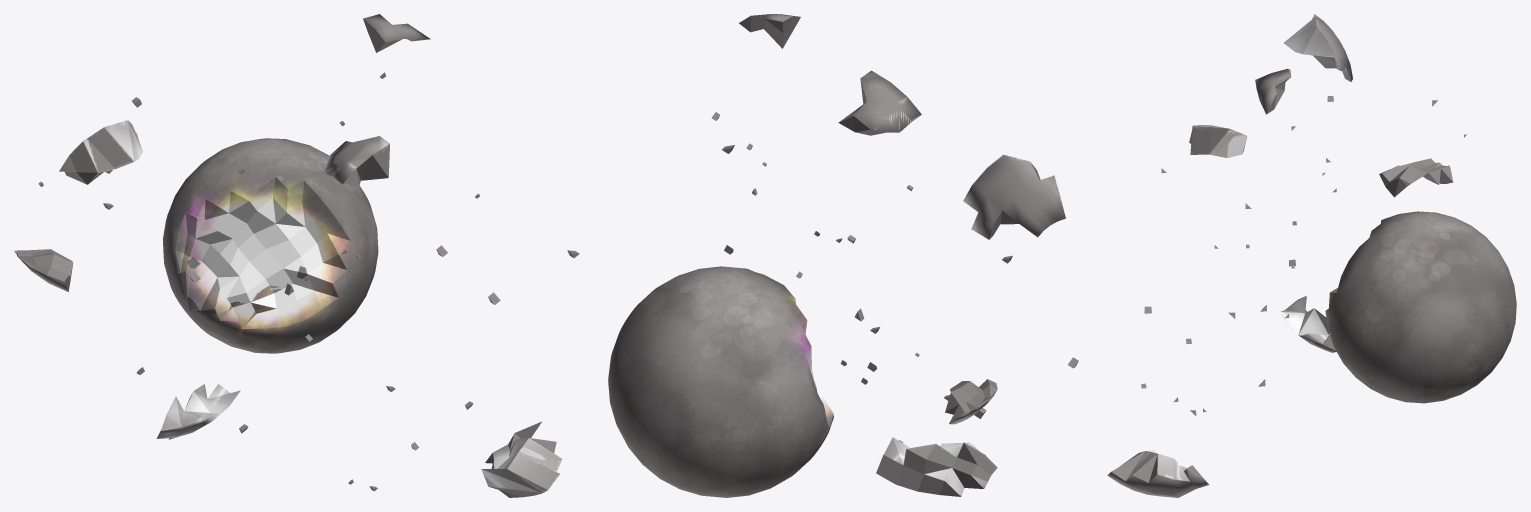
File: moon.obj
3 views of the same model, side by side, from view 1: azimuth 30°, elevation 25°; view 2: azimuth 150°, elevation 25°; view 3: azimuth 270°, elevation 25° (orthographic). The views are drawn at different scales.
Visible parts, largest first — view 1: moon_Moon, moonRock2_Moon, moonRock5_Moon, moonRock6_Moon, moonRock3_Moon, moonRock4_Moon, moonRock1_Moon, moonRocks_Moon; view 2: moon_Moon, moonRock5_Moon, moonRock3_Moon, moonRock6_Moon, moonRock4_Moon, moonRock1_Moon, moonRocks_Moon; view 3: moon_Moon, moonRock2_Moon, moonRock5_Moon, moonRock6_Moon, moonRock3_Moon, moonRock4_Moon, moonRock1_Moon, moonRocks_Moon.
Boxes of the visible parts, left/top/right/bottom form: moon_Moon: left=162, top=138, right=378, bottom=353; moonRock2_Moon: left=481, top=421, right=562, bottom=497; moonRock5_Moon: left=59, top=120, right=142, bottom=184; moonRock6_Moon: left=324, top=136, right=389, bottom=186; moonRock3_Moon: left=156, top=384, right=240, bottom=439; moonRock4_Moon: left=14, top=249, right=73, bottom=291; moonRock1_Moon: left=363, top=14, right=430, bottom=52; moonRocks_Moon: left=38, top=72, right=579, bottom=491; moon_Moon: left=608, top=266, right=833, bottom=497; moonRock5_Moon: left=963, top=154, right=1065, bottom=239; moonRock3_Moon: left=876, top=437, right=997, bottom=496; moonRock6_Moon: left=838, top=70, right=921, bottom=135; moonRock4_Moon: left=945, top=379, right=997, bottom=424; moonRock1_Moon: left=739, top=14, right=800, bottom=48; moonRocks_Moon: left=711, top=112, right=1078, bottom=442; moon_Moon: left=1325, top=211, right=1516, bottom=403; moonRock2_Moon: left=1107, top=449, right=1208, bottom=497; moonRock5_Moon: left=1284, top=14, right=1353, bottom=81; moonRock6_Moon: left=1189, top=125, right=1247, bottom=157; moonRock3_Moon: left=1280, top=295, right=1336, bottom=352; moonRock4_Moon: left=1379, top=158, right=1453, bottom=197; moonRock1_Moon: left=1255, top=68, right=1291, bottom=114; moonRocks_Moon: left=1141, top=96, right=1466, bottom=415.
Bounding box in the file's own units: 8.96 × 9.1 × 8.53.
1 material, 1 textured.
